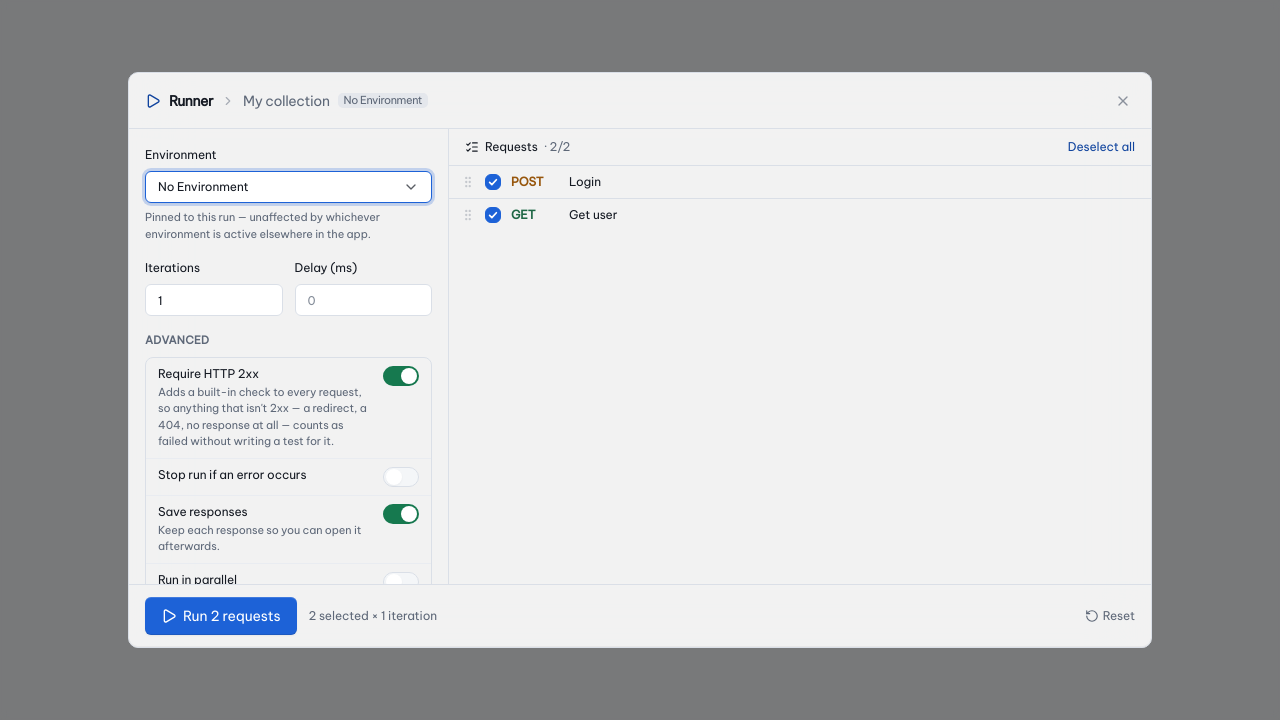
Test: RunnerDialog run loop › buckets a request that never responded under "error", not 0
Click the button "Run 2 requests" at x=221, y=616, box top-left (145, 597), bottom-right (297, 635)
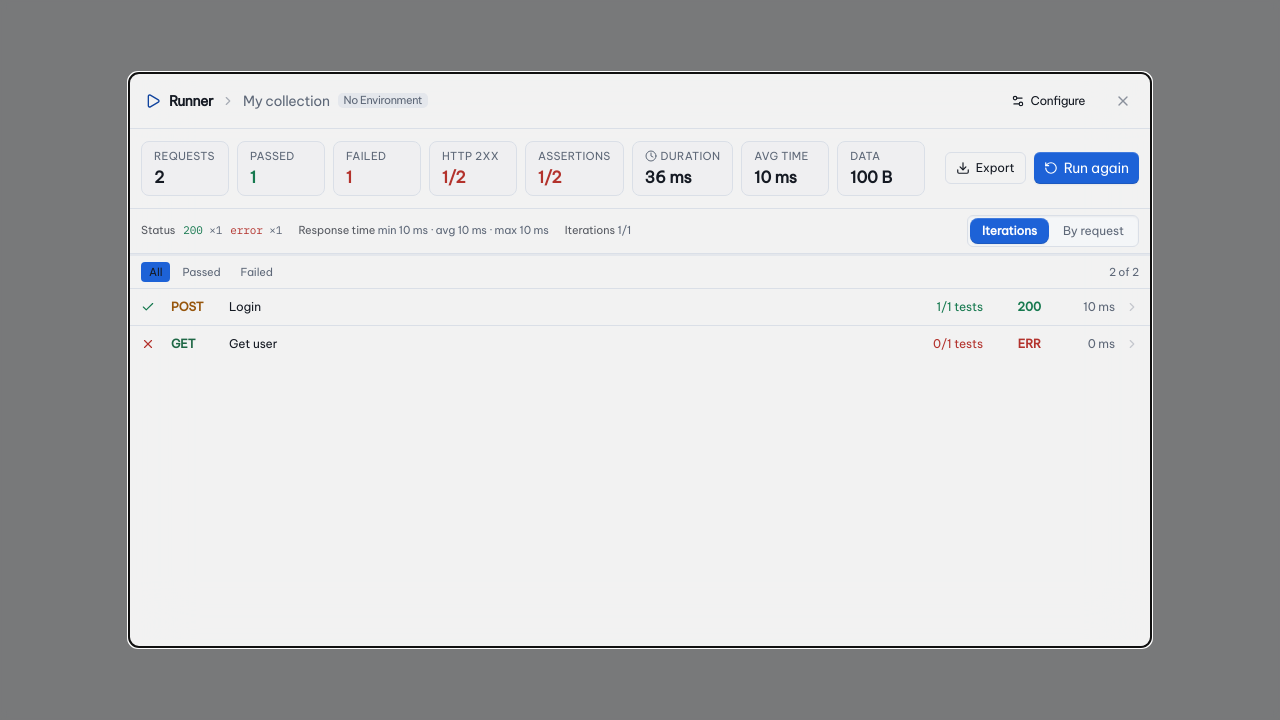
Now the button "error ×1" is shown, box top-left (228, 222), bottom-right (284, 239)
